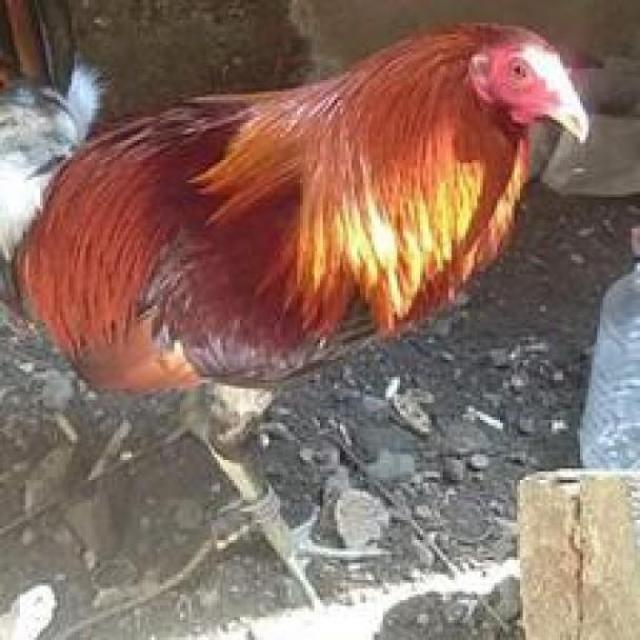Chicken: (4, 24, 620, 605)
